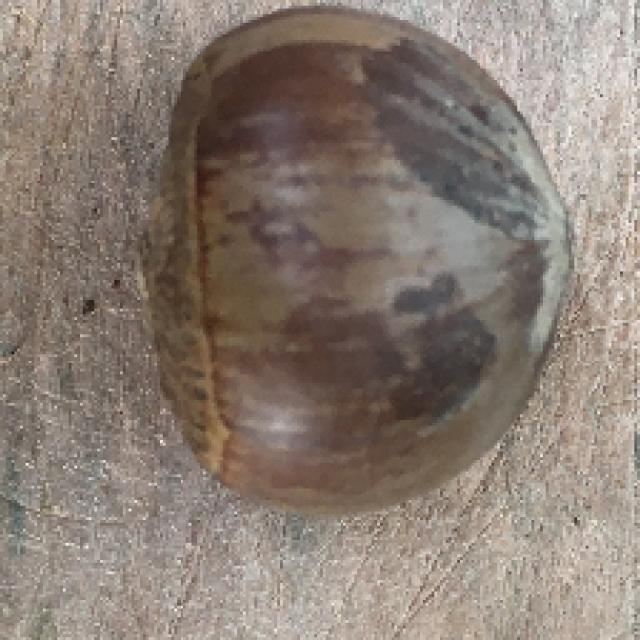damagedHazelnut: (109, 0, 631, 527)
